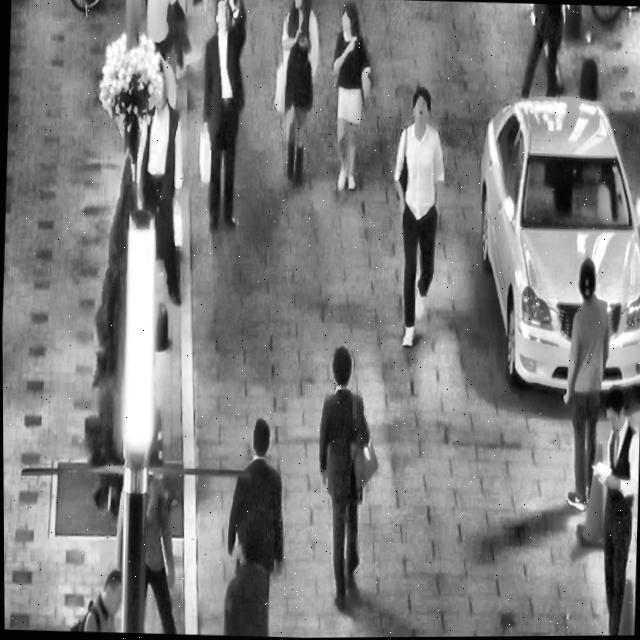light_vehicle: (465, 75, 640, 405)
